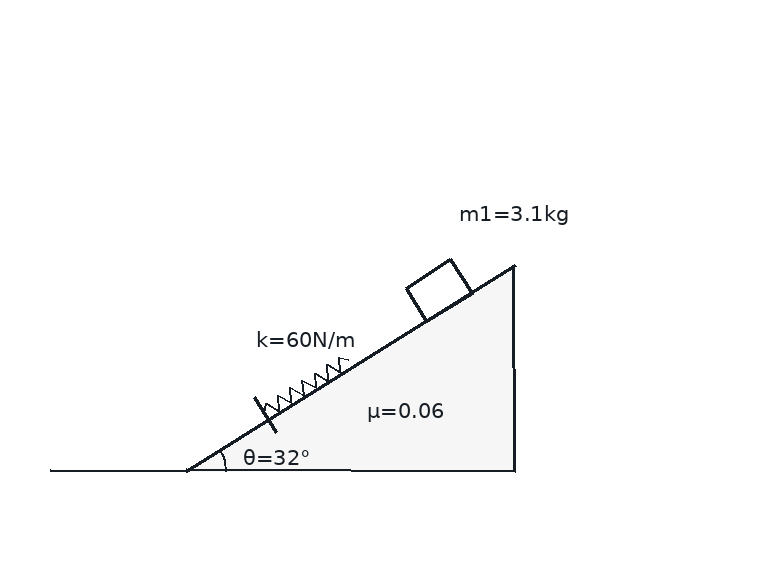block: (403, 258, 473, 323)
ramp: (184, 264, 516, 473)
spring: (261, 355, 351, 414)
